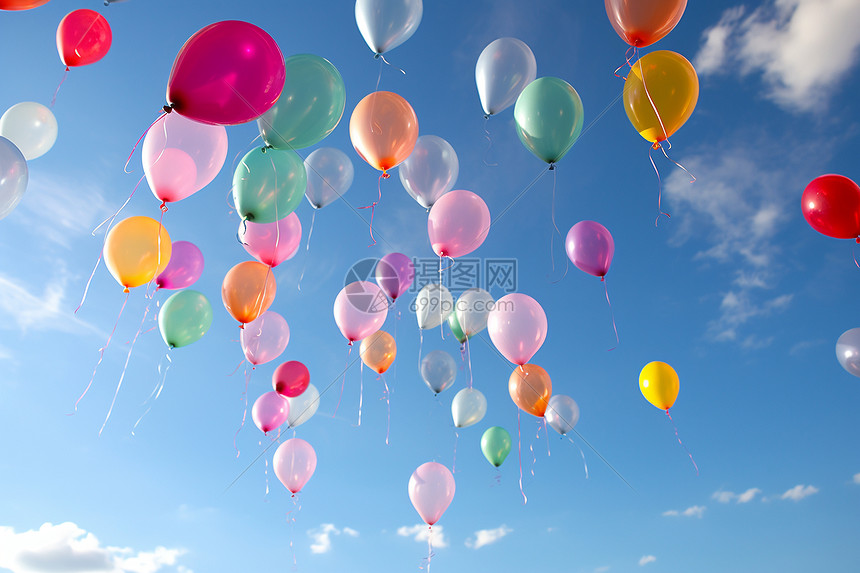balloon: (249, 54, 345, 217), (166, 20, 285, 125), (141, 113, 227, 202), (349, 91, 418, 195), (623, 50, 698, 143), (514, 77, 583, 167), (233, 147, 306, 223), (103, 216, 171, 290), (304, 147, 353, 249), (475, 37, 535, 118), (55, 9, 111, 95), (399, 135, 458, 210), (487, 293, 546, 364), (428, 190, 490, 257), (605, 0, 686, 47), (355, 0, 422, 56), (801, 175, 859, 238), (222, 261, 275, 324), (238, 213, 301, 266), (0, 102, 57, 160), (334, 281, 388, 342), (158, 289, 211, 348), (408, 462, 454, 525), (565, 221, 614, 277), (240, 311, 289, 364), (273, 438, 316, 493), (0, 136, 27, 219), (156, 241, 203, 288), (509, 364, 551, 416), (639, 361, 678, 411), (455, 289, 493, 339), (376, 252, 415, 298), (415, 284, 452, 329), (360, 330, 396, 373), (252, 391, 288, 433), (421, 350, 455, 394), (272, 360, 309, 397), (451, 388, 486, 427), (288, 384, 319, 427), (545, 395, 578, 434), (481, 426, 511, 466), (836, 328, 859, 376), (448, 310, 466, 345), (0, 0, 48, 10), (104, 0, 126, 5)
